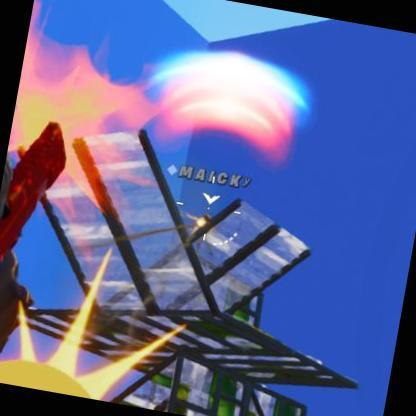person: (196, 212, 214, 248)
